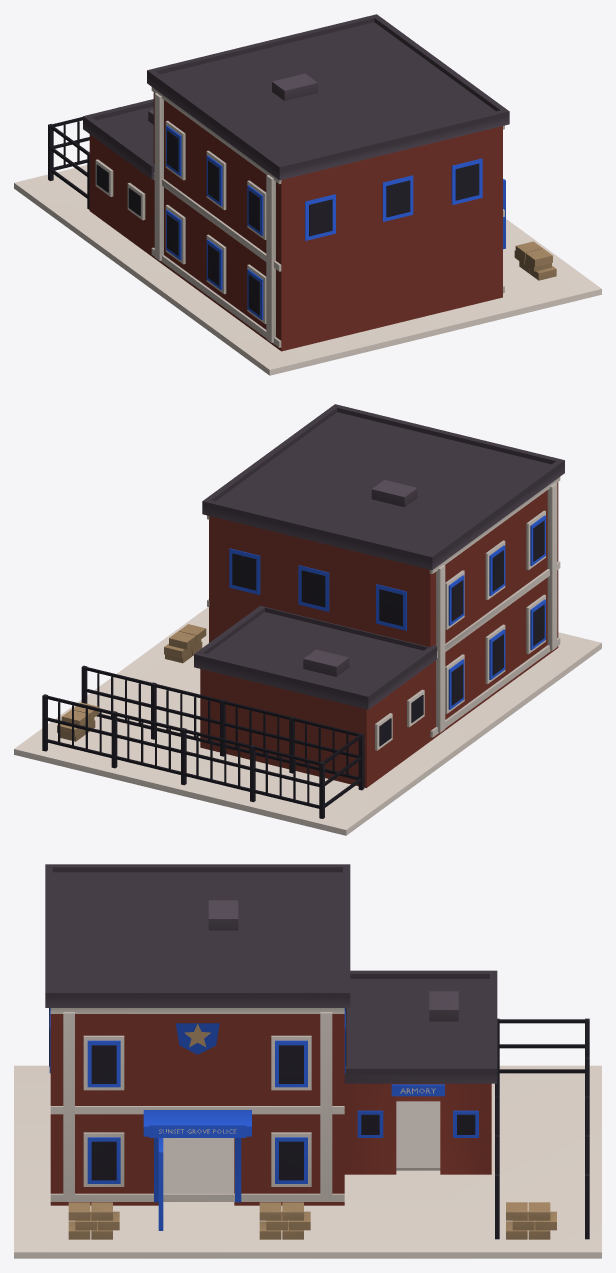
Rendered from bld.police-station.lod2.glb.
The picture shows the model from 3 angles, top to bottom: view 1: azimuth 30°, elevation 25°; view 2: azimuth 150°, elevation 25°; view 3: azimuth 270°, elevation 25°; orthographic projection. The views are drawn at different scales.
Parts seen in each view (by area): view 1: body, roof; view 2: body, roof; view 3: body, roof, interior, doorMain.
Part boxes in pixels (x1,y1,x2,y2): body: (14, 87, 601, 375); roof: (83, 14, 509, 180); body: (14, 477, 601, 835); roof: (194, 404, 564, 709); body: (14, 1008, 601, 1258); roof: (45, 864, 497, 1083); interior: (163, 1101, 440, 1193); doorMain: (158, 1138, 163, 1230).
Size of the model in its own units: 12 by 6.85 by 16.
